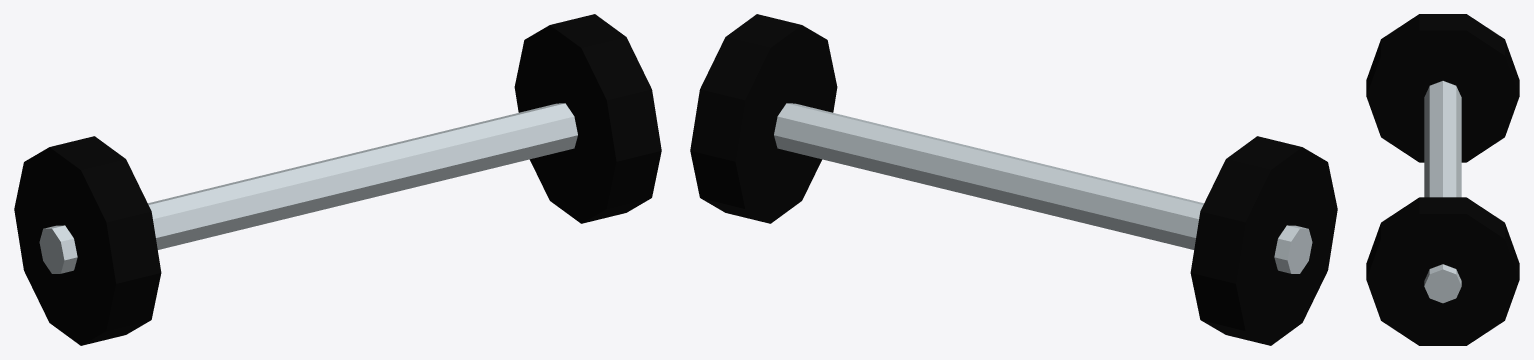
Rendered from dumbell.glb.
3 views of the same model, side by side, from view 1: azimuth 30°, elevation 25°; view 2: azimuth 150°, elevation 25°; view 3: azimuth 270°, elevation 25° (orthographic). The views are drawn at different scales.
Visible parts, largest first — view 1: Cylinder; view 2: Cylinder; view 3: Cylinder.
Part boxes in pixels (x1,y1,x2,y2): Cylinder: (14,14,661,345); Cylinder: (690,14,1337,345); Cylinder: (1366,14,1519,345).
Size of the model in its own units: 3.25 by 0.9511 by 1.
1 material, 1 textured.
